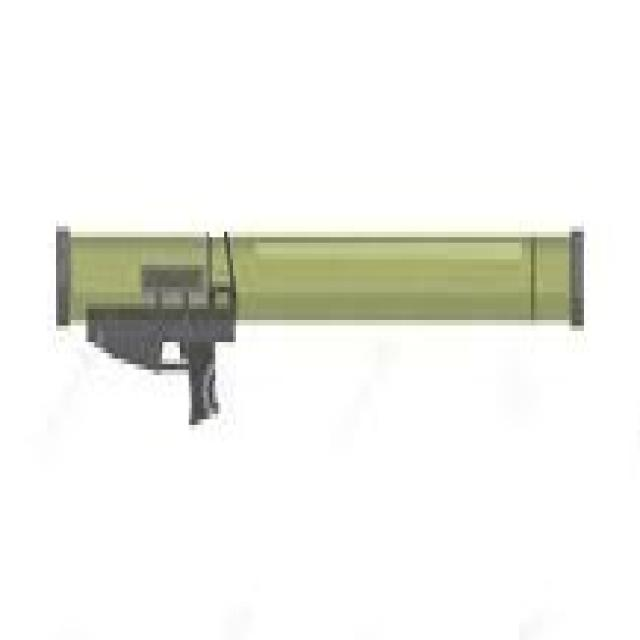bazooka: (52, 216, 590, 434)
